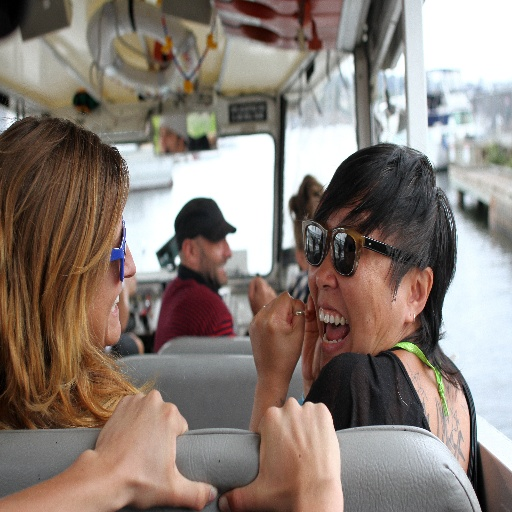hand: (216, 393, 343, 511), (68, 390, 197, 499), (247, 290, 306, 383), (300, 294, 323, 385), (245, 275, 277, 316)
